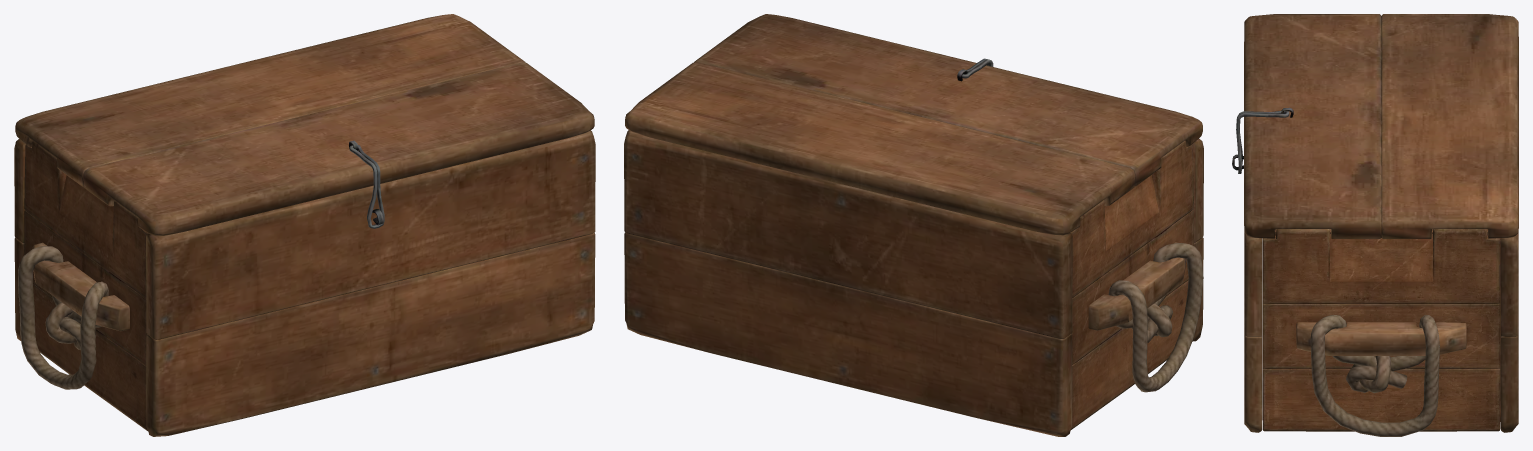
Rendered from assets__ph__wooden_crate_01.glb.
3 renders of one model, left to right at view 1: azimuth 30°, elevation 25°; view 2: azimuth 150°, elevation 25°; view 3: azimuth 270°, elevation 25°, orthographic. The views are drawn at different scales.
Visible parts, largest first — view 1: wooden_crate_01_lid; view 2: wooden_crate_01_lid; view 3: wooden_crate_01_lid.
Boxes of the visible parts, box(x1,y1,x2,y2) form: wooden_crate_01_lid: box(14, 14, 595, 436); wooden_crate_01_lid: box(624, 14, 1203, 436); wooden_crate_01_lid: box(1232, 14, 1518, 436).
Size of the model in its own units: 0.8253 by 0.3495 by 0.4084.
1 material, 1 textured.
